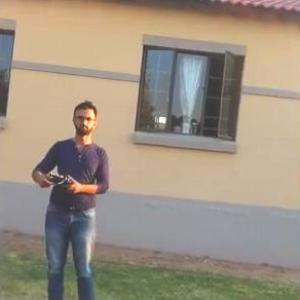follow: (21, 98, 116, 299)
